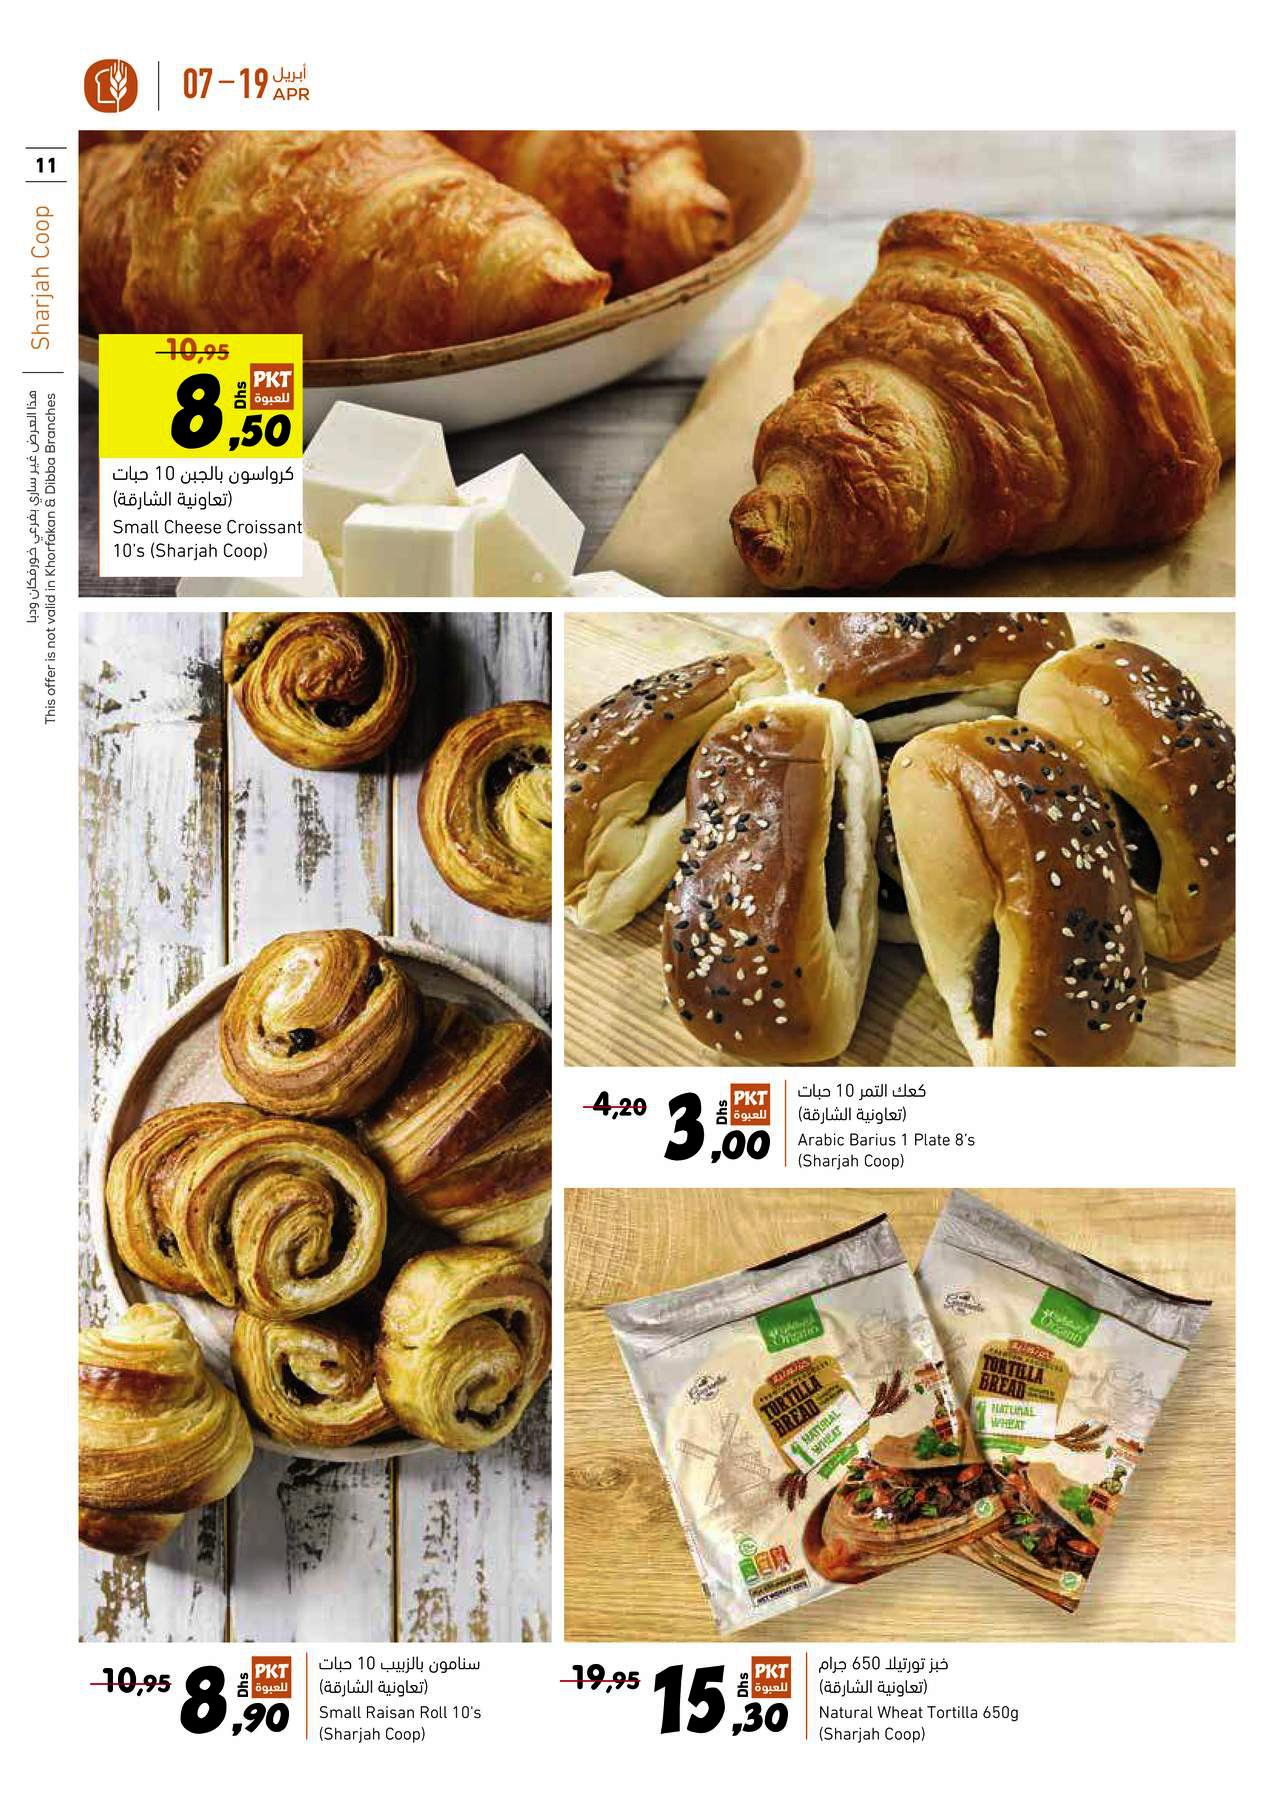text: (103, 459, 304, 573), (811, 1653, 1026, 1753), (789, 1076, 982, 1176), (315, 1651, 492, 1750)
